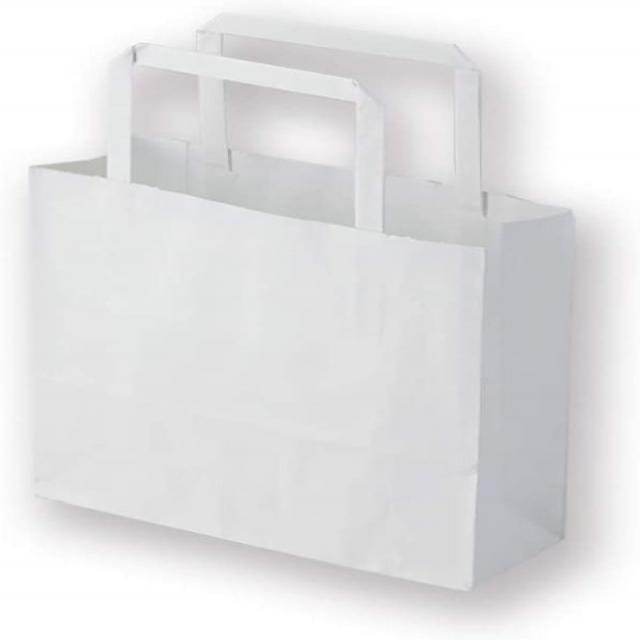paper bag: (11, 12, 596, 592)
